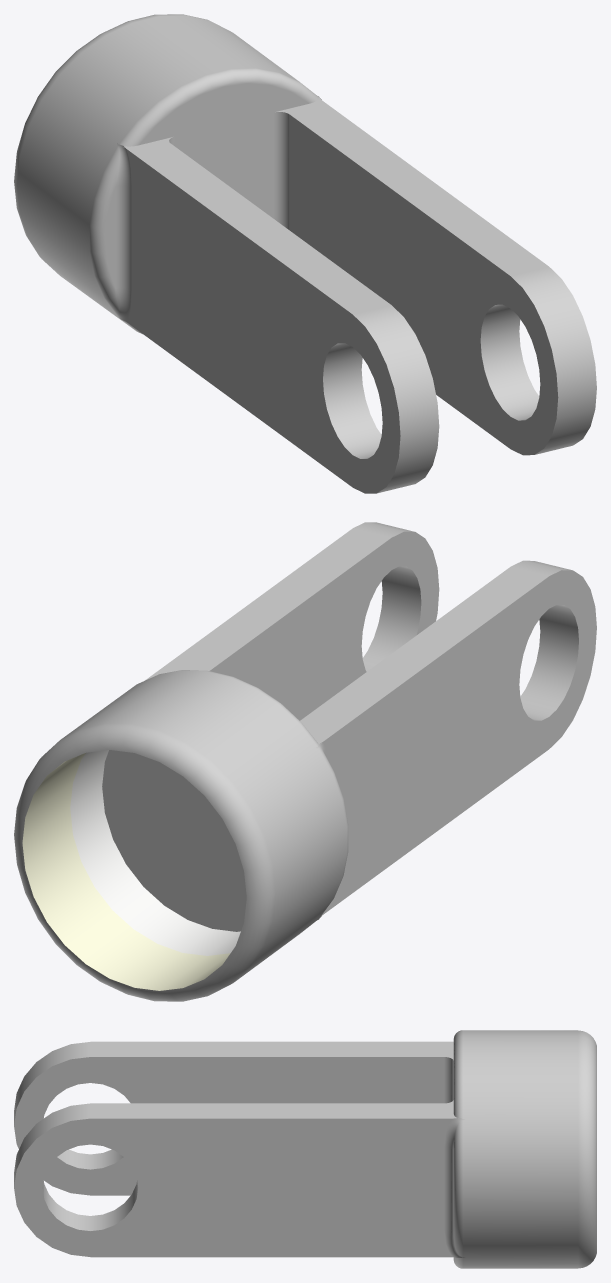
The model's file is pulley_cap.glb.
The picture shows the model from 3 angles, top to bottom: view 1: azimuth 30°, elevation 25°; view 2: azimuth 150°, elevation 25°; view 3: azimuth 270°, elevation 25°; orthographic projection. The views are drawn at different scales.
Visible parts, largest first — view 1: Body1; view 2: Body1; view 3: Body1.
Part boxes in pixels (x1,y1,x2,y2): Body1: [14, 14, 596, 493]; Body1: [14, 522, 596, 1001]; Body1: [14, 1030, 596, 1268].
Bounding box in the file's own units: 2.5 × 2.49 × 6.1.
